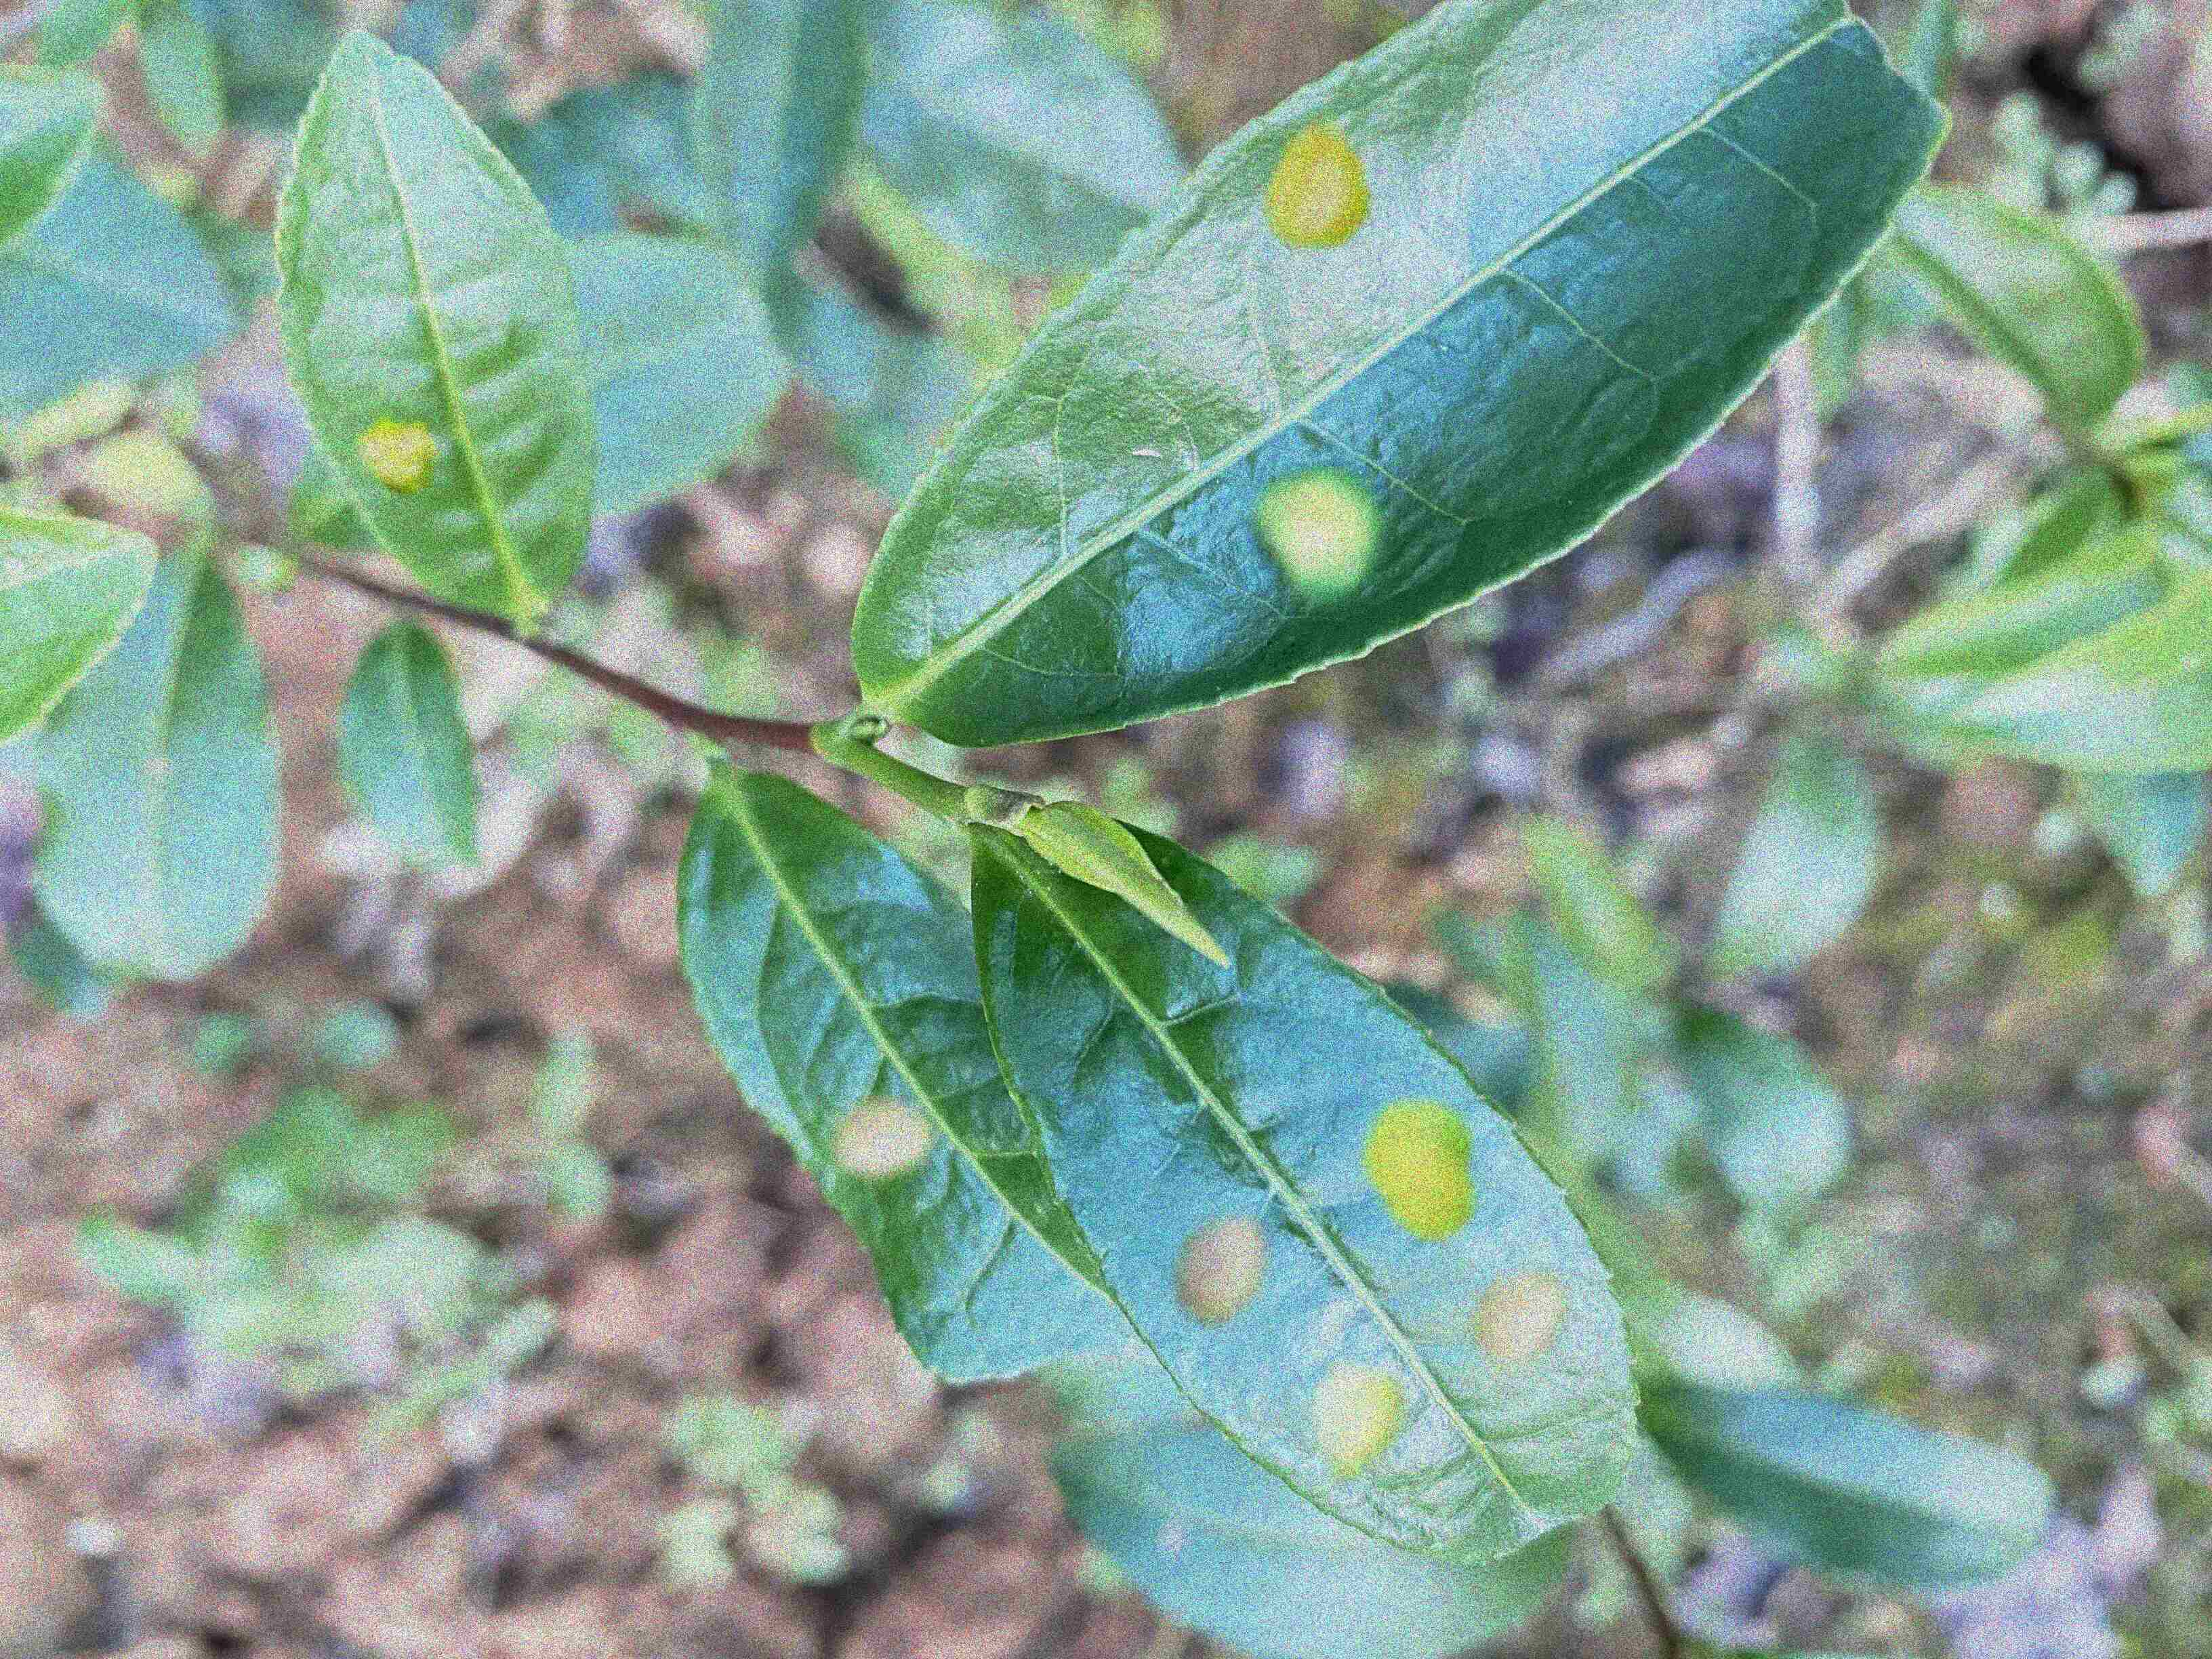chabing_high: (848, 3, 1949, 744), (972, 812, 1641, 1565)
chabing_low: (672, 748, 1136, 1384), (273, 28, 603, 619)
